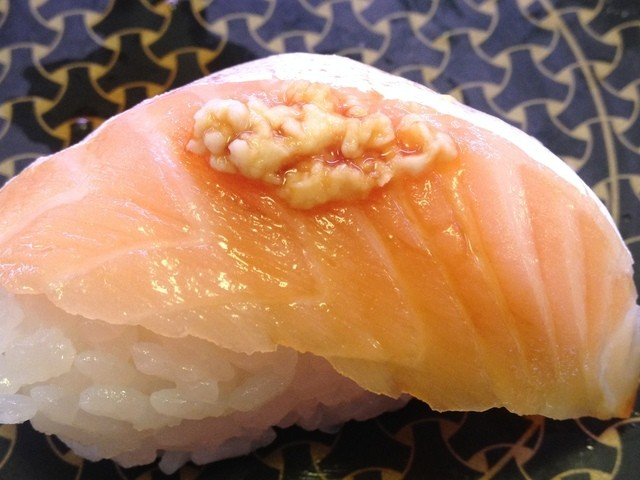salmon: (4, 51, 640, 470)
